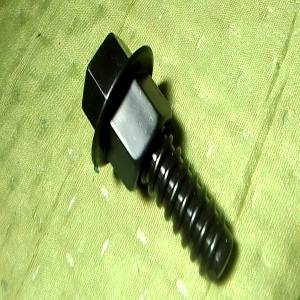parafuso: (82, 29, 235, 281)
